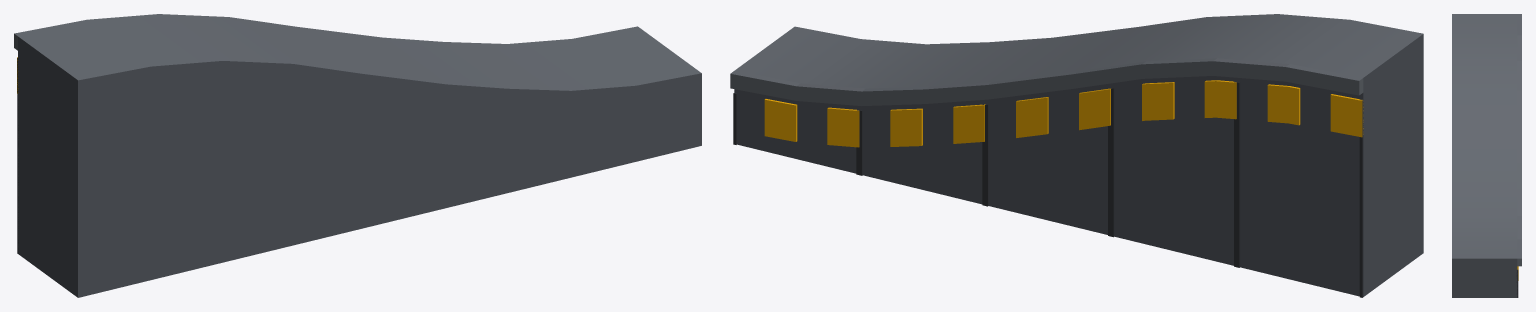
3 renders of one model, left to right at view 1: azimuth 30°, elevation 25°; view 2: azimuth 150°, elevation 25°; view 3: azimuth 270°, elevation 25°, orthographic. The views are drawn at different scales.
Parts seen in each view (by area): view 1: c1wf; view 2: c1wf; view 3: c1wf.
Boxes of the visible parts, <box> form: c1wf: <box>14,14,701,297</box>; c1wf: <box>730,14,1423,297</box>; c1wf: <box>1452,14,1521,297</box>.
Bounding box in the file's own units: 9 × 3 × 1.6.
